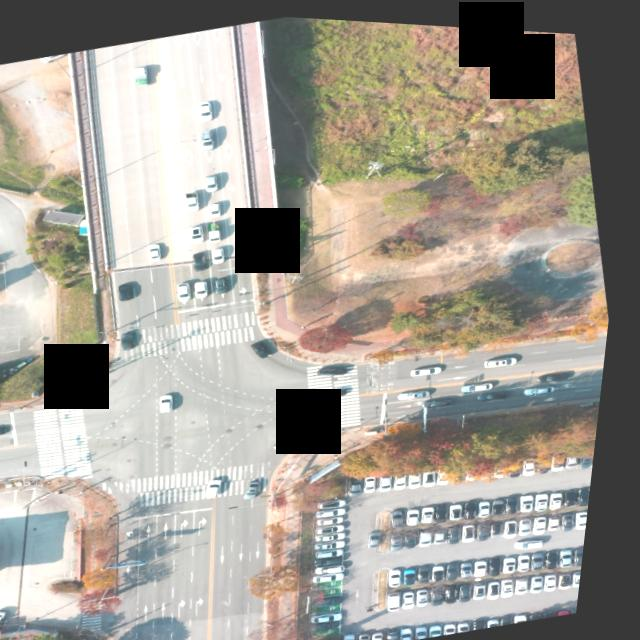car: (281, 428, 313, 448), (524, 529, 557, 546), (395, 585, 415, 607)
small_truck: (131, 62, 151, 86), (208, 219, 225, 238)
